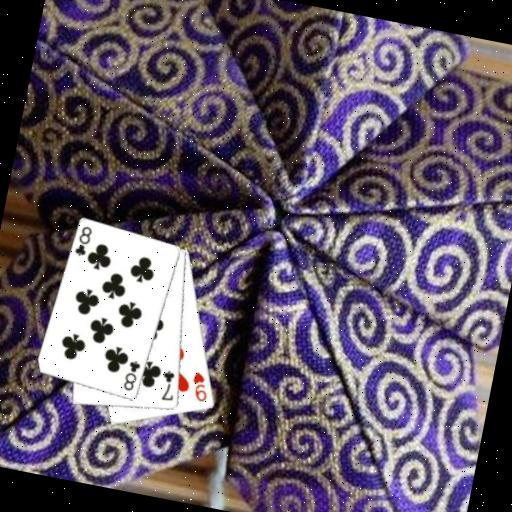7C: (156, 367, 181, 404)
8C: (71, 222, 95, 260), (120, 356, 143, 394)
9H: (186, 368, 213, 405)
